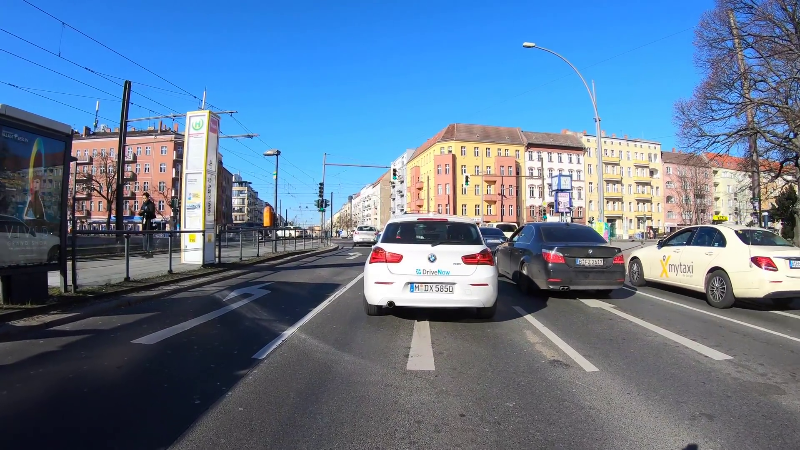Plate: (408, 280, 455, 293), (575, 258, 605, 265), (789, 259, 800, 268)
